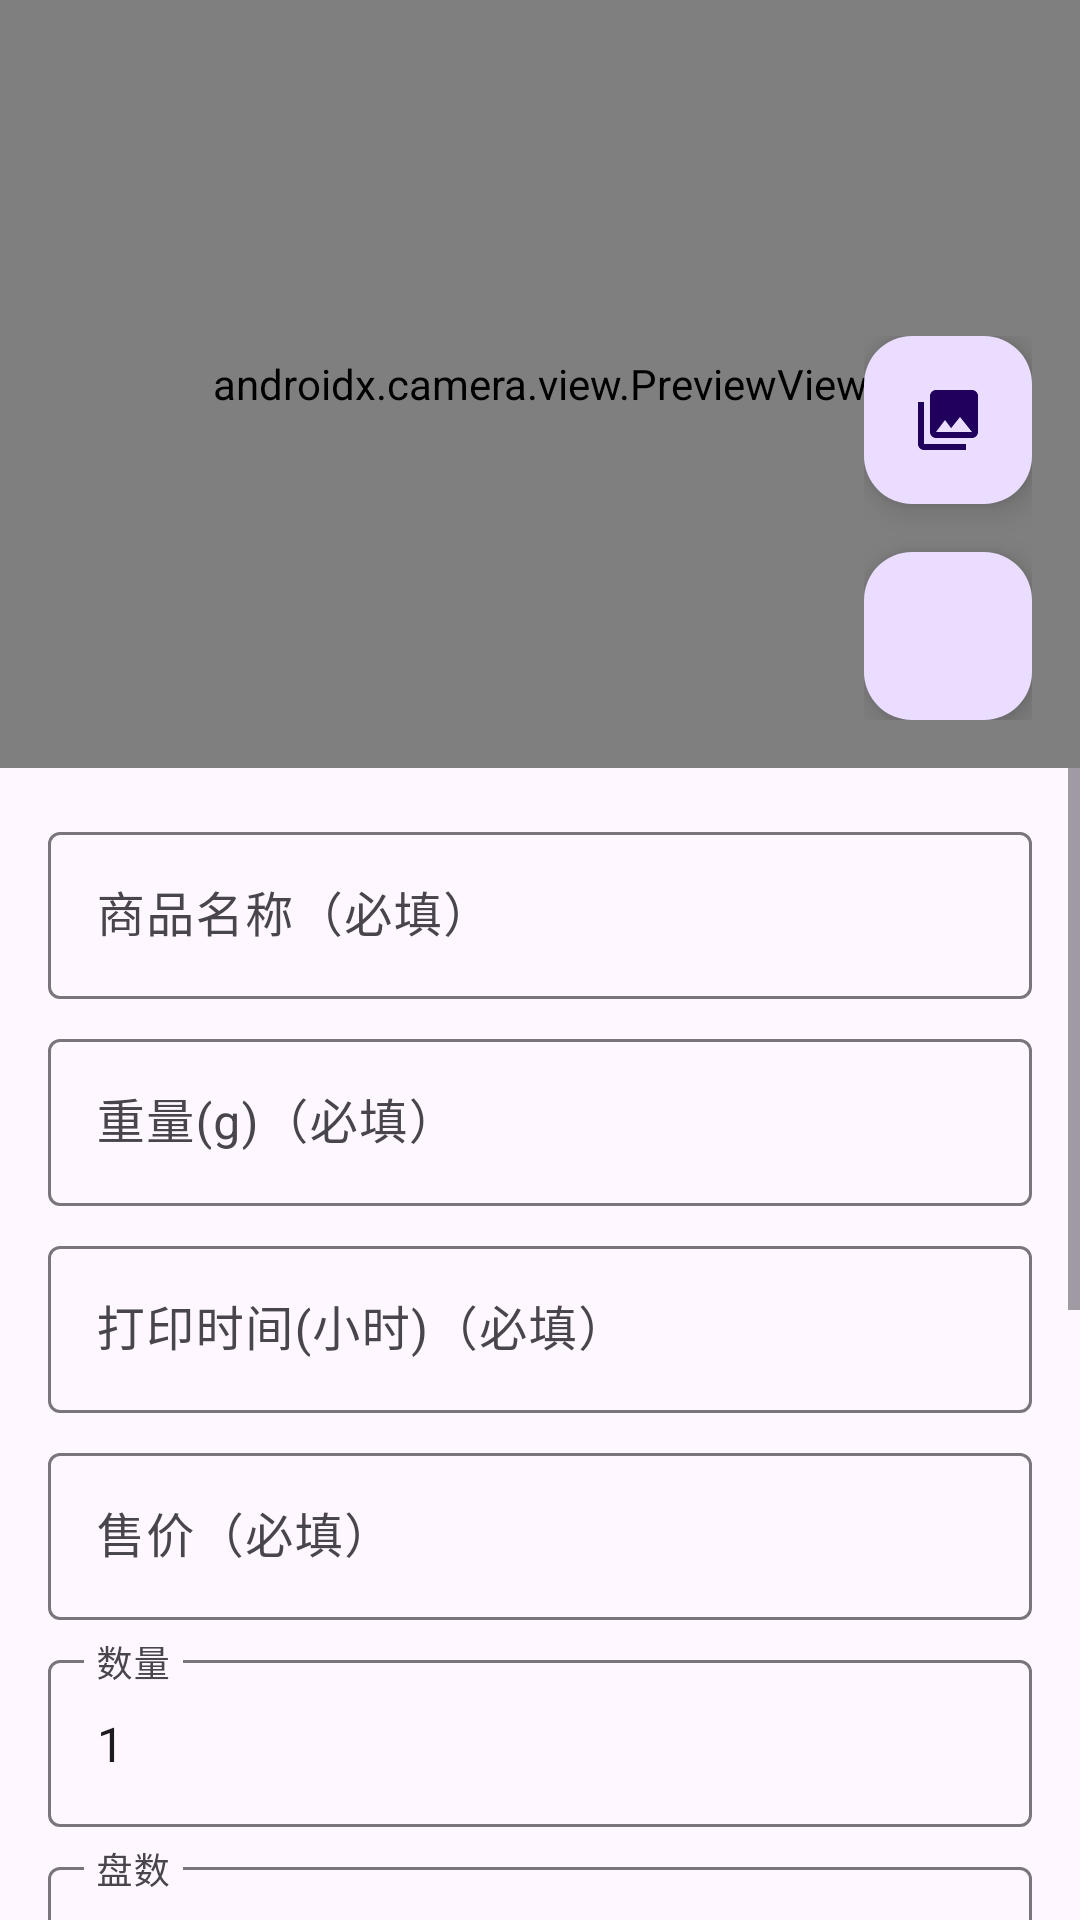

Icon click points for this 1080w x 1920h phone screenshot, format (x,y):
gallery: (948,420)
